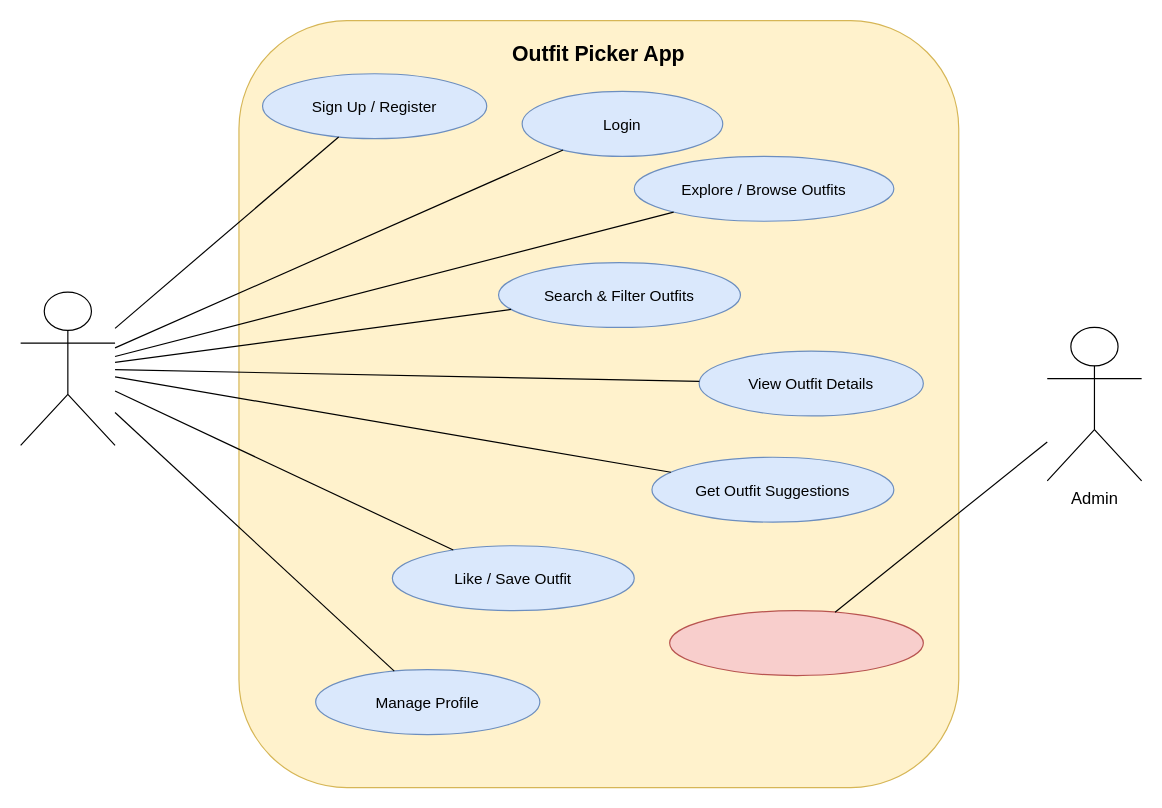
Image size: 1162x808. Some labels were removed from this diagram. The shapes that lost their labels are listed below. From the top down, each one's box as (x1, y1, x2, y2) in pixels, then its label:
(19, 291, 115, 445): Female User
(668, 609, 923, 676): Manage Outfits & Categories
